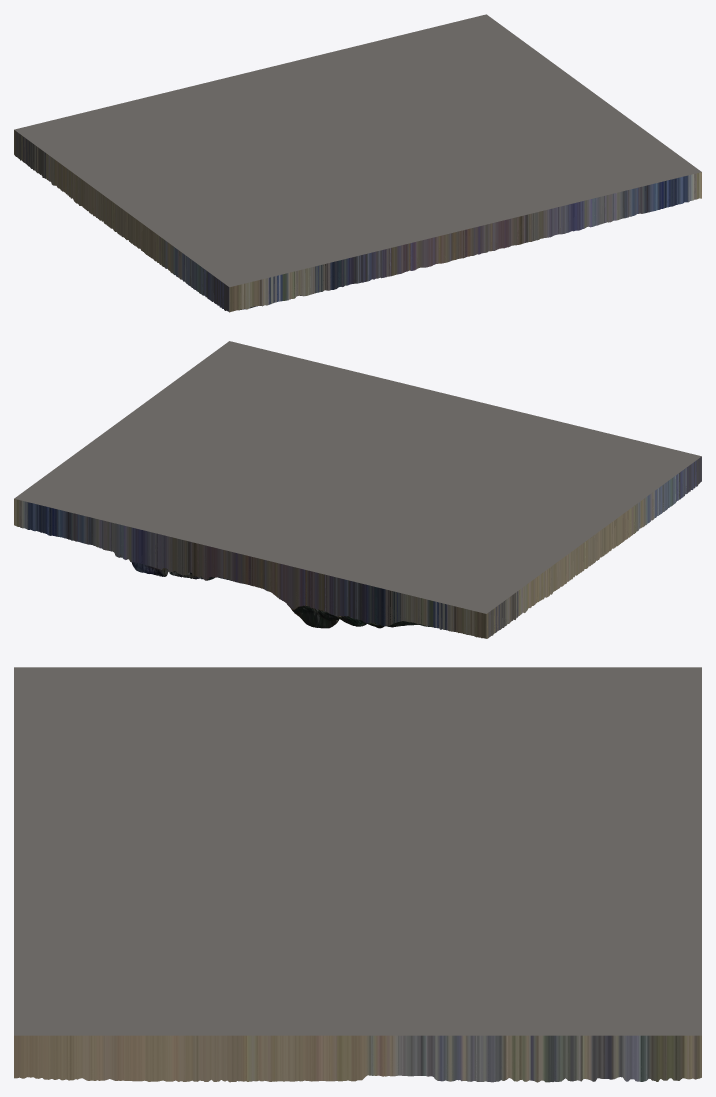
Rendered from starry-night.glb.
3 renders of one model, top to bottom at view 1: azimuth 30°, elevation 25°; view 2: azimuth 150°, elevation 25°; view 3: azimuth 270°, elevation 25°, orthographic. The views are drawn at different scales.
Parts seen in each view (by area): view 1: Relief Sculpture.stl; view 2: Relief Sculpture.stl; view 3: Relief Sculpture.stl.
Boxes of the visible parts, x1,y1,x2,y2 form: Relief Sculpture.stl: (14,14,701,312); Relief Sculpture.stl: (14,341,701,638); Relief Sculpture.stl: (14,667,701,1082).
Bounding box in the file's own units: 100 × 14.29 × 78.98.
Materials: 1 (1 with a texture image).
